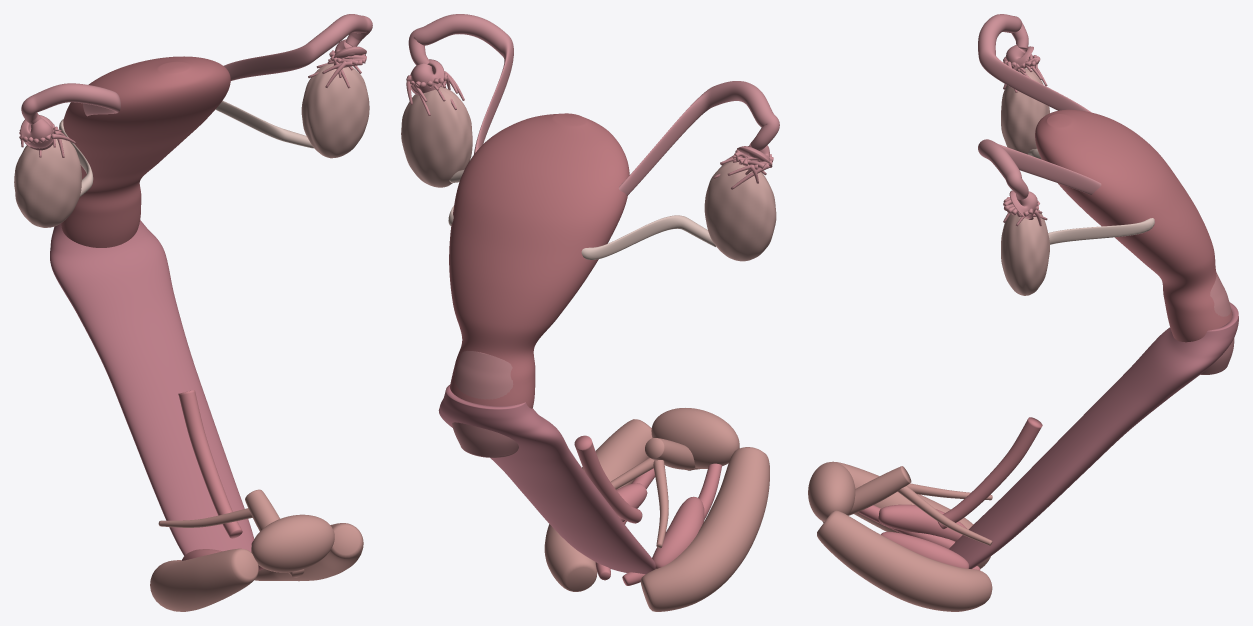
File: reproductive-female.glb
The picture shows the model from 3 angles, left to right: view 1: azimuth 30°, elevation 25°; view 2: azimuth 150°, elevation 25°; view 3: azimuth 270°, elevation 25°; orthographic projection. The views are drawn at different scales.
Parts seen in each view (by area): view 1: Vagina, Uterus, Ovary.l, Labium majus.r, Ovary.r, Uterine tube.l, Mons pubis, Uterine tube.r, Female urethra, Labium majus.l, Clitoris, Ovarian ligament.l; view 2: Uterus, Vagina, Labium majus.r, Ovary.l, Ovary.r, Uterine tube.r, Uterine tube.l, Labium majus.l, Cervix, Mons pubis, Clitoris, Vestibular bulb.r (+4 smaller); view 3: Uterus, Vagina, Labium majus.l, Uterine tube.r, Uterine tube.l, Ovary.l, Clitoris, Ovary.r, Mons pubis, Female urethra, Vestibular bulb.r, Ovarian ligament.l (+4 smaller).
Boxes of the visible parts, left/top/right/bottom form: Vagina: left=50, top=220, right=254, bottom=555; Uterus: left=61, top=56, right=230, bottom=247; Ovary.l: left=301, top=63, right=369, bottom=158; Labium majus.r: left=150, top=548, right=258, bottom=611; Ovary.r: left=14, top=139, right=81, bottom=227; Uterine tube.l: left=224, top=14, right=372, bottom=88; Mons pubis: left=251, top=514, right=334, bottom=572; Uterine tube.r: left=19, top=83, right=120, bottom=157; Female urethra: left=178, top=390, right=242, bottom=538; Labium majus.l: left=254, top=523, right=363, bottom=581; Clitoris: left=158, top=489, right=304, bottom=577; Ovarian ligament.l: left=215, top=100, right=313, bottom=148; Uterus: left=449, top=113, right=629, bottom=408; Vagina: left=438, top=384, right=655, bottom=574; Labium majus.r: left=640, top=447, right=769, bottom=611; Ovary.l: left=401, top=86, right=472, bottom=187; Ovary.r: left=704, top=161, right=776, bottom=261; Uterine tube.r: left=618, top=81, right=779, bottom=195; Uterine tube.l: left=406, top=14, right=513, bottom=154; Labium majus.l: left=544, top=419, right=652, bottom=591; Cervix: left=452, top=351, right=518, bottom=457; Mons pubis: left=651, top=408, right=739, bottom=468; Clitoris: left=610, top=438, right=700, bottom=548; Vestibular bulb.r: left=652, top=496, right=704, bottom=568; Uterus: left=1035, top=109, right=1232, bottom=342; Vagina: left=949, top=302, right=1238, bottom=568; Labium majus.l: left=817, top=510, right=992, bottom=611; Uterine tube.r: left=978, top=14, right=1091, bottom=112; Uterine tube.l: left=978, top=139, right=1101, bottom=226; Ovary.l: left=1001, top=209, right=1049, bottom=295; Clitoris: left=822, top=466, right=992, bottom=545; Ovary.r: left=1001, top=68, right=1049, bottom=154; Mons pubis: left=808, top=462, right=855, bottom=521; Female urethra: left=937, top=417, right=1042, bottom=529; Vestibular bulb.r: left=878, top=504, right=966, bottom=541; Ovarian ligament.l: left=1048, top=218, right=1154, bottom=244.
Bounding box in the file's own units: 0.1142 × 0.1645 × 0.127.
